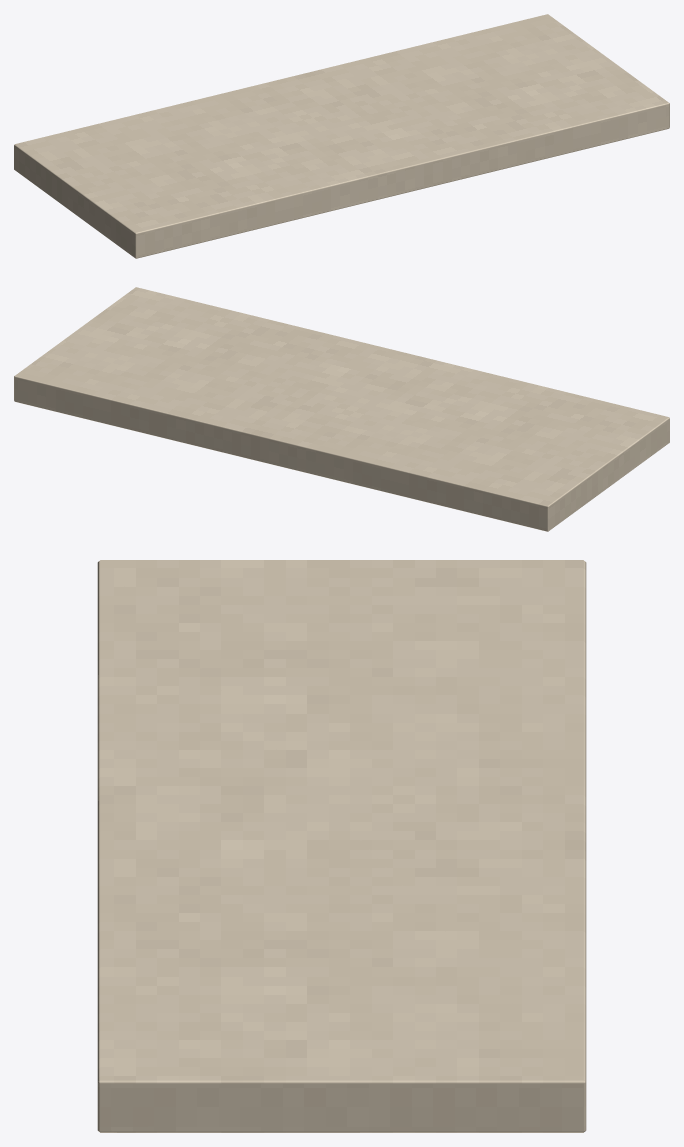
3 views of the same model, one above another, from view 1: azimuth 30°, elevation 25°; view 2: azimuth 150°, elevation 25°; view 3: azimuth 270°, elevation 25° (orthographic). The views are drawn at different scales.
Visible parts, largest first — view 1: Base; view 2: Base; view 3: Base.
Part boxes in pixels (<box>): Base: <box>14,14,669,258</box>; Base: <box>14,287,669,531</box>; Base: <box>97,560,586,1132</box>.
Size of the model in its own units: 2.25 by 0.106 by 0.89.
Materials: 1 (1 with a texture image).
